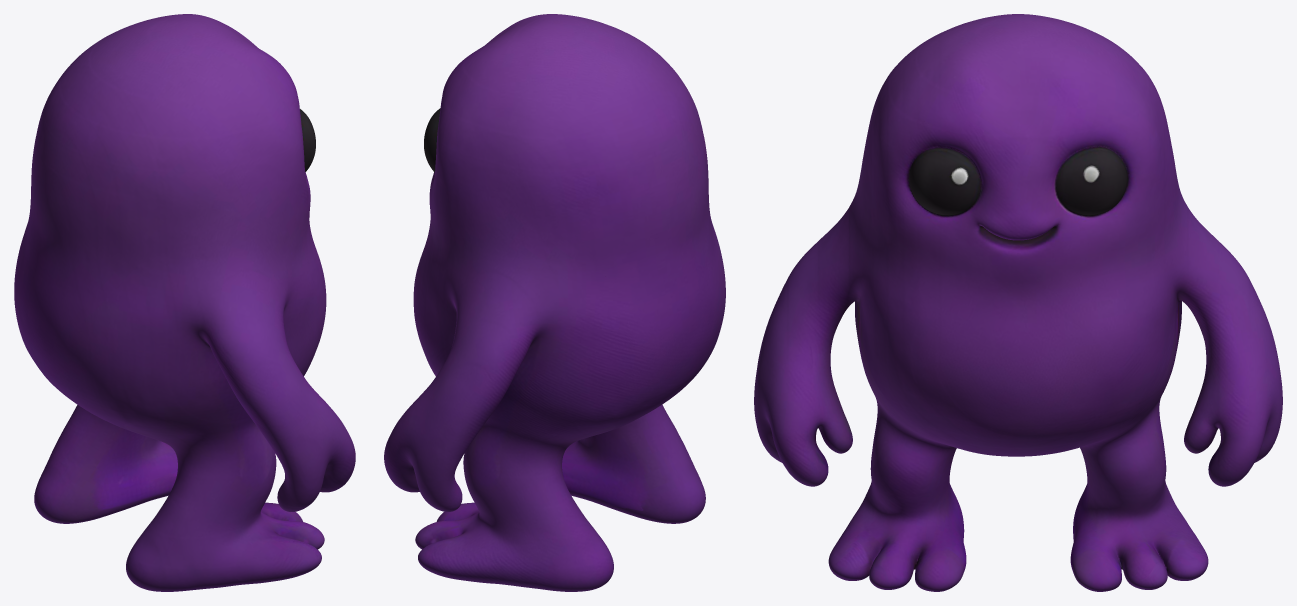
Rendered from monster1.glb.
The picture shows the model from 3 angles, left to right: view 1: azimuth 30°, elevation 25°; view 2: azimuth 150°, elevation 25°; view 3: azimuth 270°, elevation 25°; orthographic projection. The views are drawn at different scales.
Visible parts, largest first — view 1: tripo_node_39f67d2b-90fd-449c-80b2-d7dd1a547731; view 2: tripo_node_39f67d2b-90fd-449c-80b2-d7dd1a547731; view 3: tripo_node_39f67d2b-90fd-449c-80b2-d7dd1a547731.
Boxes of the visible parts, x1=… form: tripo_node_39f67d2b-90fd-449c-80b2-d7dd1a547731: x1=14, y1=14, x2=355, y2=591; tripo_node_39f67d2b-90fd-449c-80b2-d7dd1a547731: x1=384, y1=14, x2=725, y2=591; tripo_node_39f67d2b-90fd-449c-80b2-d7dd1a547731: x1=754, y1=14, x2=1282, y2=591.
Size of the model in its own units: 0.5463 by 1 by 0.8864.
Materials: 1 (1 with a texture image).
